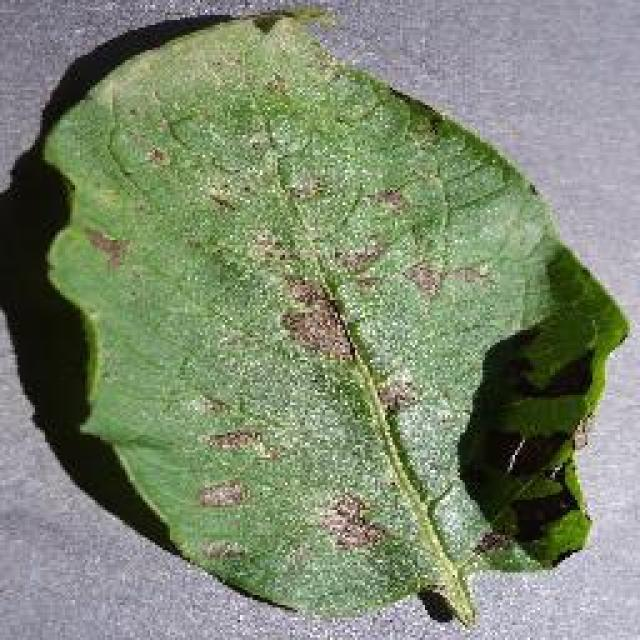Potato: (35, 5, 633, 627)
